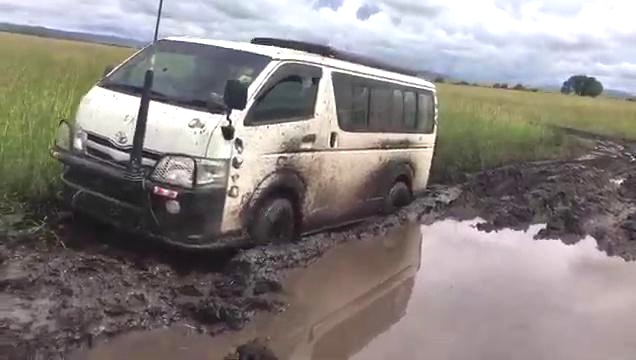van: (54, 31, 441, 243)
